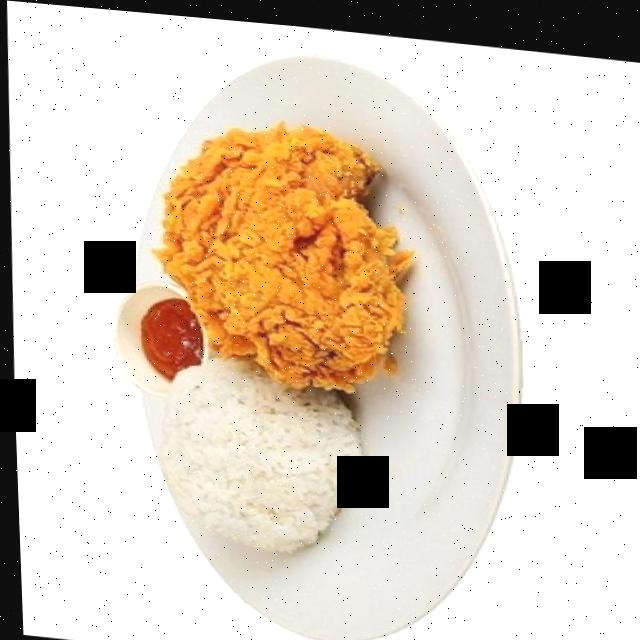Frango: (181, 131, 414, 385)
